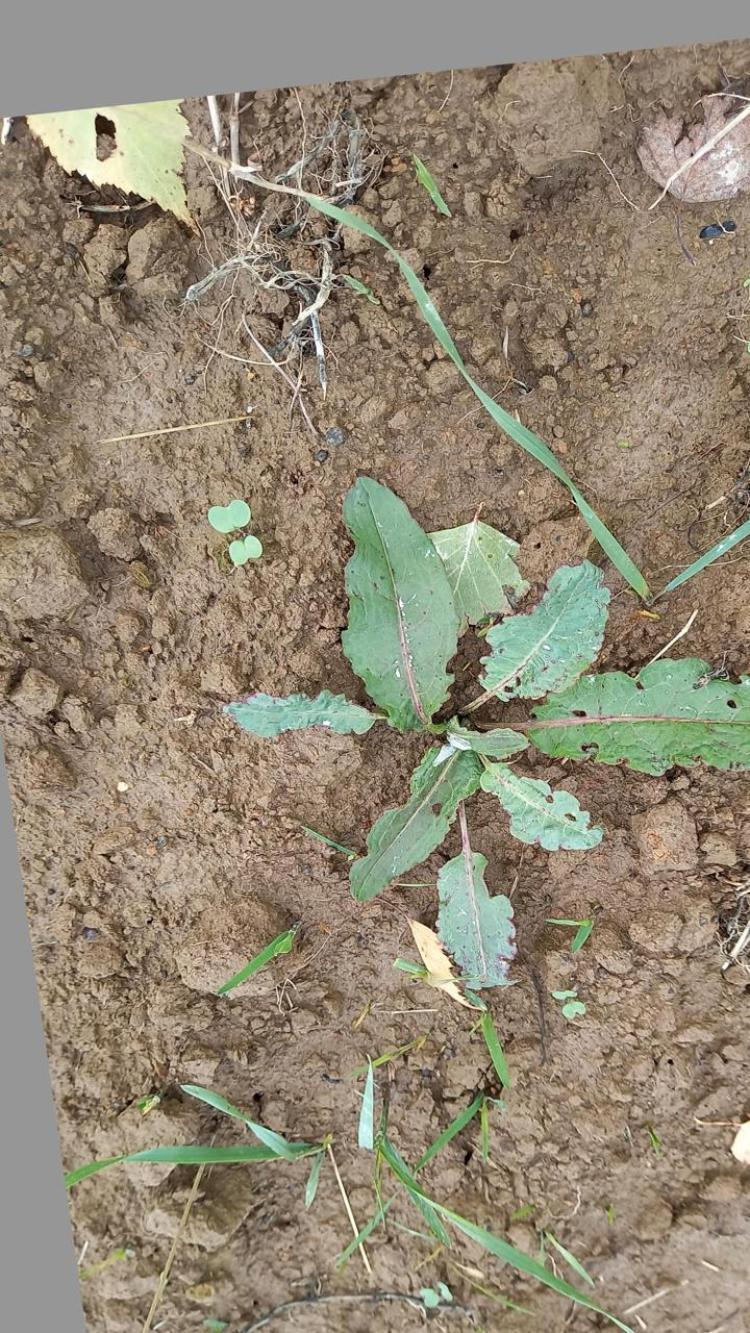zhavel: (229, 472, 750, 998)
